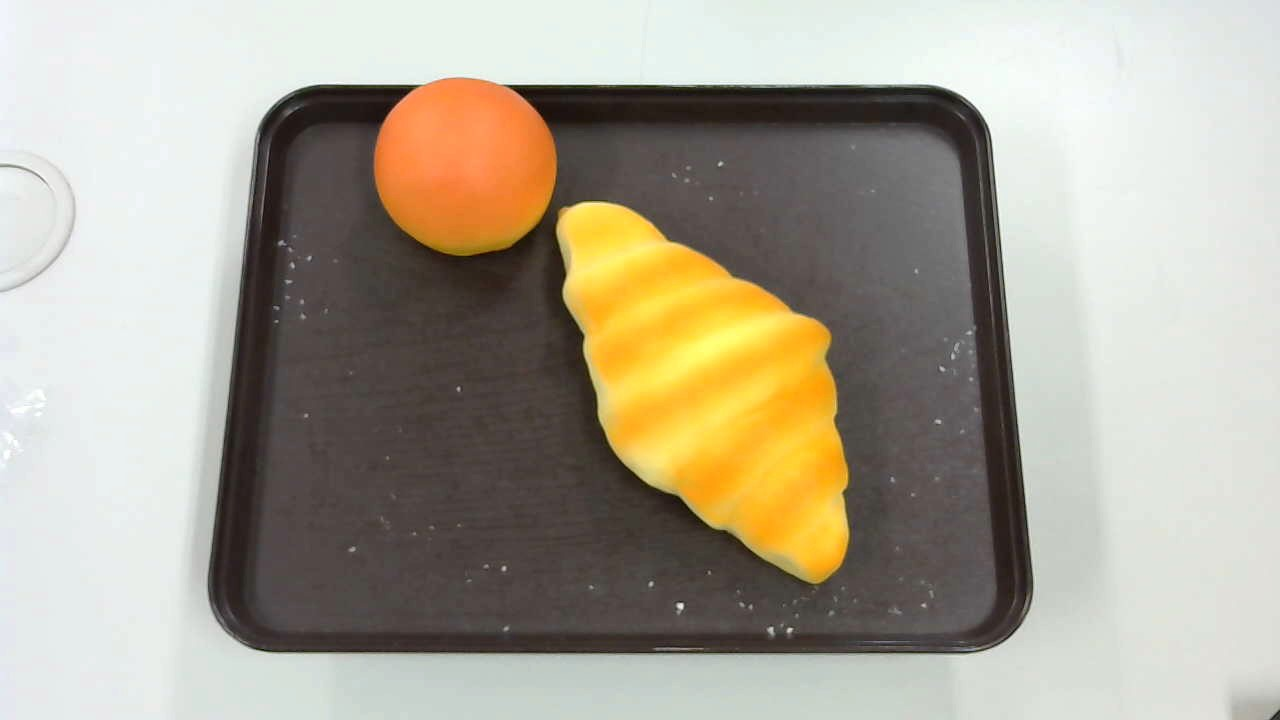bun: (374, 77, 556, 256)
croissant: (556, 201, 849, 586)
